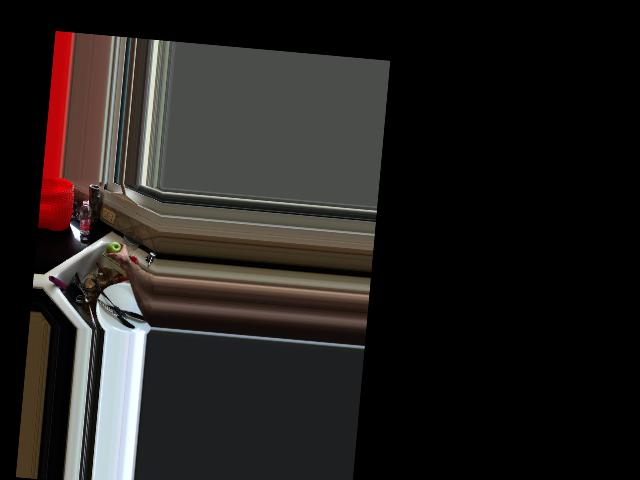apple: (106, 239, 122, 258)
